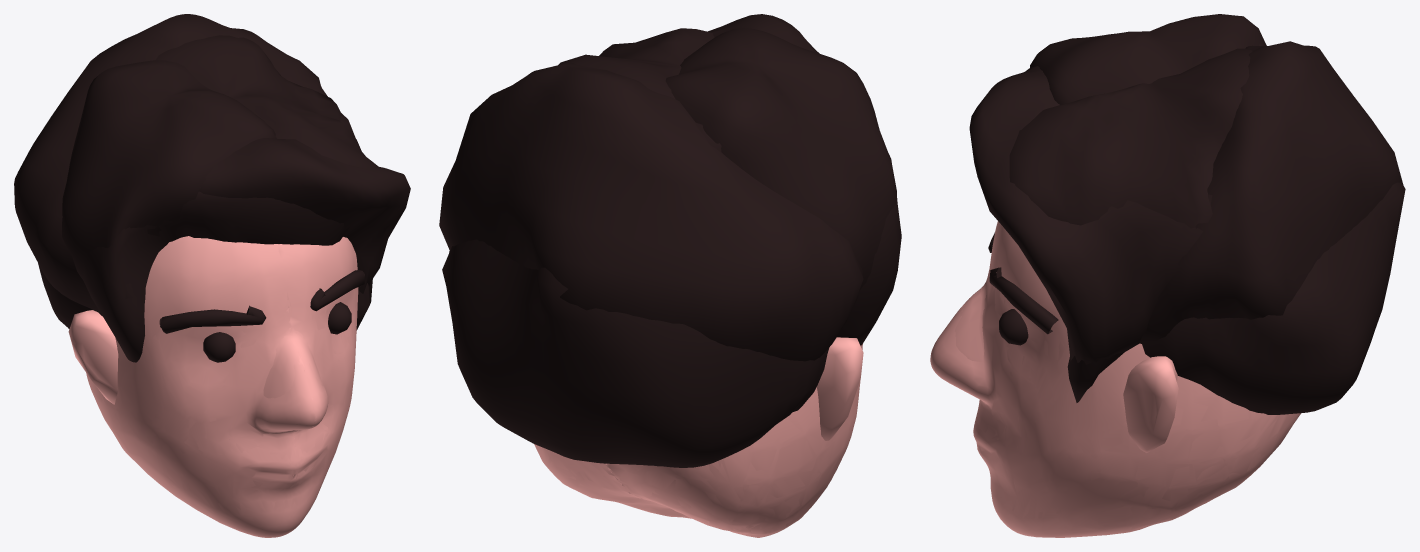
The model's file is Head4.glb.
3 views of the same model, side by side, from view 1: azimuth 30°, elevation 25°; view 2: azimuth 150°, elevation 25°; view 3: azimuth 270°, elevation 25° (orthographic). The views are drawn at different scales.
Parts seen in each view (by area): view 1: Sphere.001, Head, Ears, BézierCurve, Left; view 2: Sphere.001, Head, Ears; view 3: Sphere.001, Head, Ears, BézierCurve, Left.
Part boxes in pixels (x1,y1,x2,y2): Sphere.001: (14,14,410,362); Head: (86,236,358,537); Ears: (68,310,118,404); BézierCurve: (159,270,364,333); Left: (203,302,351,362); Sphere.001: (439,14,901,467); Head: (534,344,862,537); Ears: (817,337,863,440); Sphere.001: (969,14,1405,414); Head: (930,221,1301,537); Ears: (1123,356,1178,452); BézierCurve: (988,232,1058,334); Left: (999,309,1028,345).
Size of the model in its own units: 3.66 by 4.83 by 4.21.
